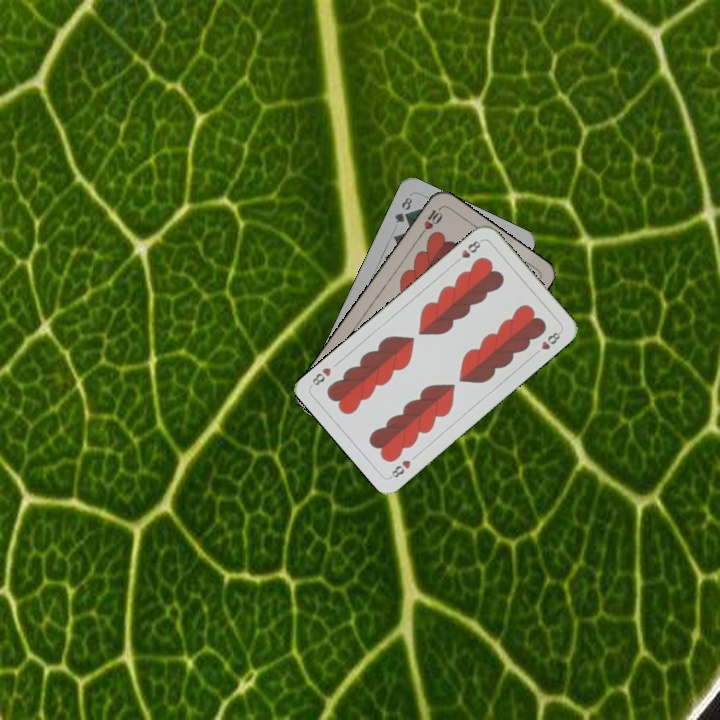G8: (391, 193, 415, 226)
H10: (415, 204, 445, 239)
H8: (451, 236, 485, 266), (387, 456, 413, 481)
